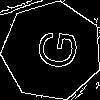G: (27, 26, 79, 72)
